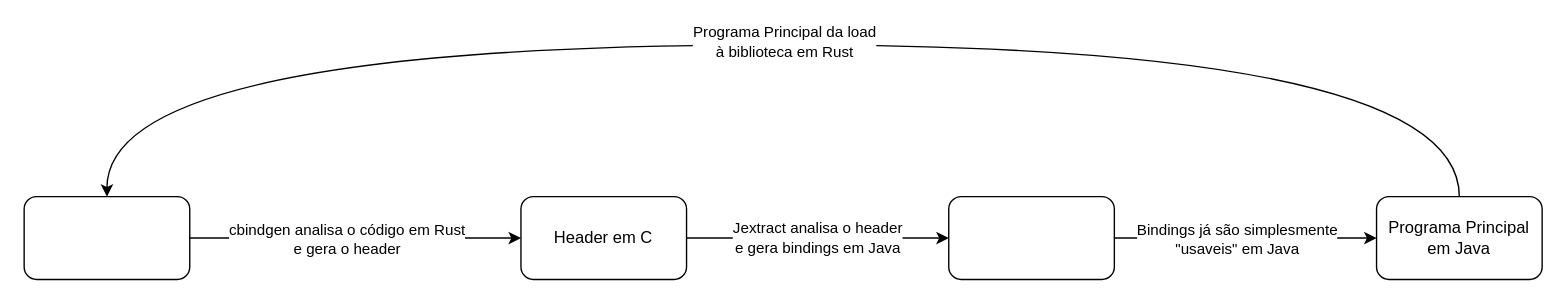
The diagram is 1566 pixels wide and 304 high, and some of its shapes have lost their labels. The box of each missing label's shape, as (x1, y1, x2, y2) in pixels:
Biblioteca em Rust: (23, 195, 190, 279)
Bindings em Java: (947, 195, 1114, 279)
